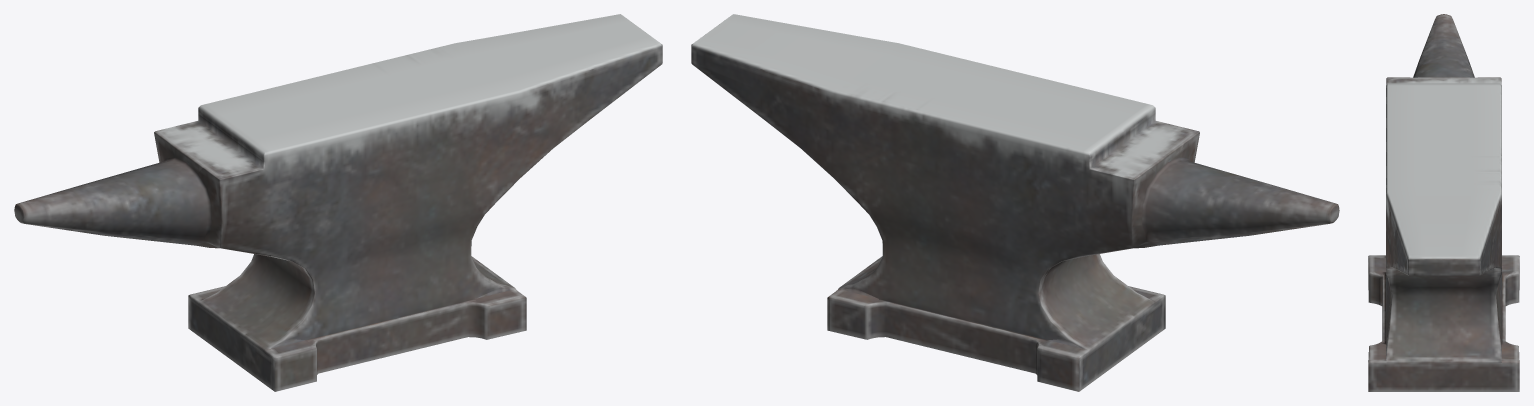
The model's file is anvil.glb.
3 renders of one model, left to right at view 1: azimuth 30°, elevation 25°; view 2: azimuth 150°, elevation 25°; view 3: azimuth 270°, elevation 25°, orthographic. The views are drawn at different scales.
Parts seen in each view (by area): view 1: Anvil; view 2: Anvil; view 3: Anvil.
Part boxes in pixels (box(x1,y1,x2,y2)): Anvil: box(14, 14, 662, 391); Anvil: box(691, 14, 1339, 391); Anvil: box(1368, 14, 1519, 391).
Bounding box in the file's own units: 0.9035 × 0.3212 × 0.2175.
Materials: 1 (1 with a texture image).
